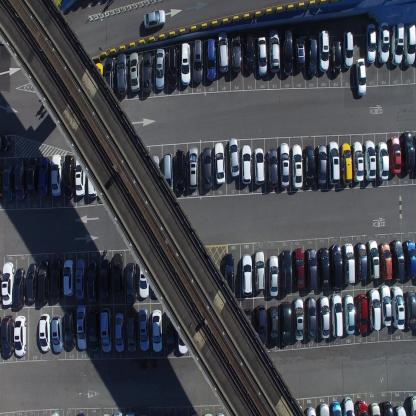car: (0, 313, 14, 358), (100, 306, 113, 354), (391, 22, 405, 66), (391, 238, 405, 282), (391, 286, 405, 330), (330, 242, 343, 289), (268, 28, 281, 74), (363, 139, 377, 181), (401, 130, 415, 172), (342, 242, 356, 284), (318, 294, 331, 339), (12, 267, 26, 308), (367, 289, 381, 330), (216, 30, 229, 74), (213, 141, 226, 184), (340, 142, 353, 185), (328, 140, 340, 186), (379, 242, 393, 281), (166, 44, 178, 89), (116, 52, 128, 97), (290, 144, 302, 189), (2, 261, 14, 306), (280, 249, 292, 294), (293, 246, 305, 291), (331, 293, 343, 338), (87, 310, 100, 351), (367, 239, 380, 280), (355, 293, 368, 334), (143, 7, 166, 30), (282, 28, 293, 76), (201, 146, 213, 190), (378, 21, 390, 65), (404, 22, 416, 66), (230, 30, 242, 74), (352, 140, 364, 184), (38, 154, 50, 198), (37, 258, 49, 302), (318, 246, 330, 290), (354, 57, 367, 97), (388, 134, 401, 174), (403, 240, 416, 280), (154, 48, 166, 91), (50, 153, 62, 196), (125, 261, 137, 304), (14, 315, 26, 358), (279, 142, 290, 188), (63, 154, 74, 200), (112, 251, 123, 297), (280, 300, 291, 346), (377, 140, 389, 182), (50, 258, 62, 300), (177, 312, 189, 354), (379, 284, 391, 326), (404, 288, 416, 330), (192, 38, 203, 83), (175, 148, 186, 193), (293, 29, 305, 70), (365, 23, 377, 64), (266, 148, 278, 189), (64, 309, 76, 350), (342, 293, 354, 334), (151, 308, 162, 352), (87, 154, 98, 198), (138, 307, 149, 351), (87, 260, 98, 304), (268, 254, 279, 298), (306, 247, 317, 291), (293, 297, 304, 341), (228, 136, 240, 176), (26, 262, 38, 302), (51, 313, 63, 353), (39, 313, 51, 353), (224, 252, 235, 295), (142, 51, 153, 94), (129, 50, 140, 93), (304, 145, 315, 188), (75, 257, 86, 300), (241, 253, 252, 296), (256, 303, 267, 346), (318, 30, 329, 72), (241, 143, 252, 185), (316, 143, 327, 185), (75, 156, 86, 198), (114, 311, 125, 353), (99, 258, 110, 300), (254, 250, 265, 292), (268, 305, 279, 347), (165, 307, 175, 353), (26, 156, 38, 194), (306, 35, 317, 76), (257, 35, 268, 76), (149, 153, 160, 194), (356, 241, 367, 282), (188, 145, 198, 190), (76, 304, 86, 349), (91, 62, 103, 99), (342, 28, 353, 68), (206, 37, 216, 81), (163, 152, 173, 196), (14, 159, 25, 199), (126, 313, 137, 353), (241, 307, 252, 347), (306, 296, 316, 340), (244, 31, 254, 74), (180, 42, 190, 85), (139, 256, 149, 299), (104, 57, 115, 96), (254, 147, 265, 185), (3, 162, 13, 202), (63, 257, 73, 297), (330, 40, 341, 76), (343, 394, 354, 416), (356, 398, 368, 416), (0, 134, 10, 153), (330, 400, 342, 415), (382, 400, 393, 415), (319, 401, 330, 415), (408, 393, 415, 415), (394, 404, 407, 415), (370, 402, 380, 415), (0, 163, 3, 200), (305, 405, 316, 415), (204, 410, 214, 416), (75, 410, 86, 415), (125, 410, 135, 415), (112, 411, 123, 415), (49, 411, 60, 415), (214, 411, 225, 415), (102, 411, 111, 415)
